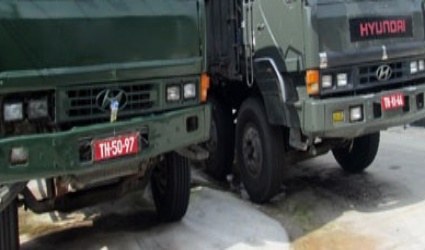plate: (89, 133, 140, 162), (380, 91, 405, 112)
